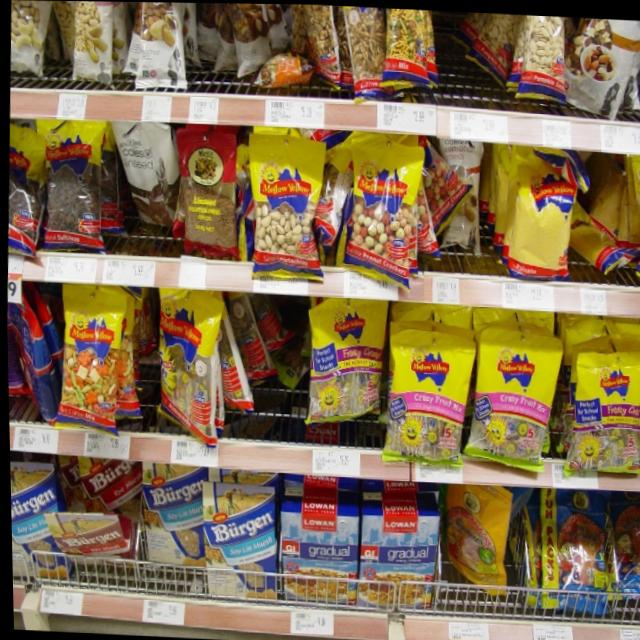q133: (271, 497, 360, 612), (358, 505, 445, 618)
q88: (341, 132, 427, 286)
